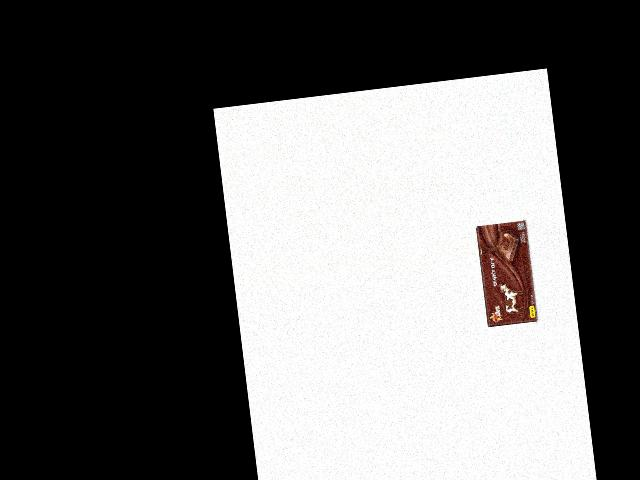chocolate: (475, 221, 538, 329)
